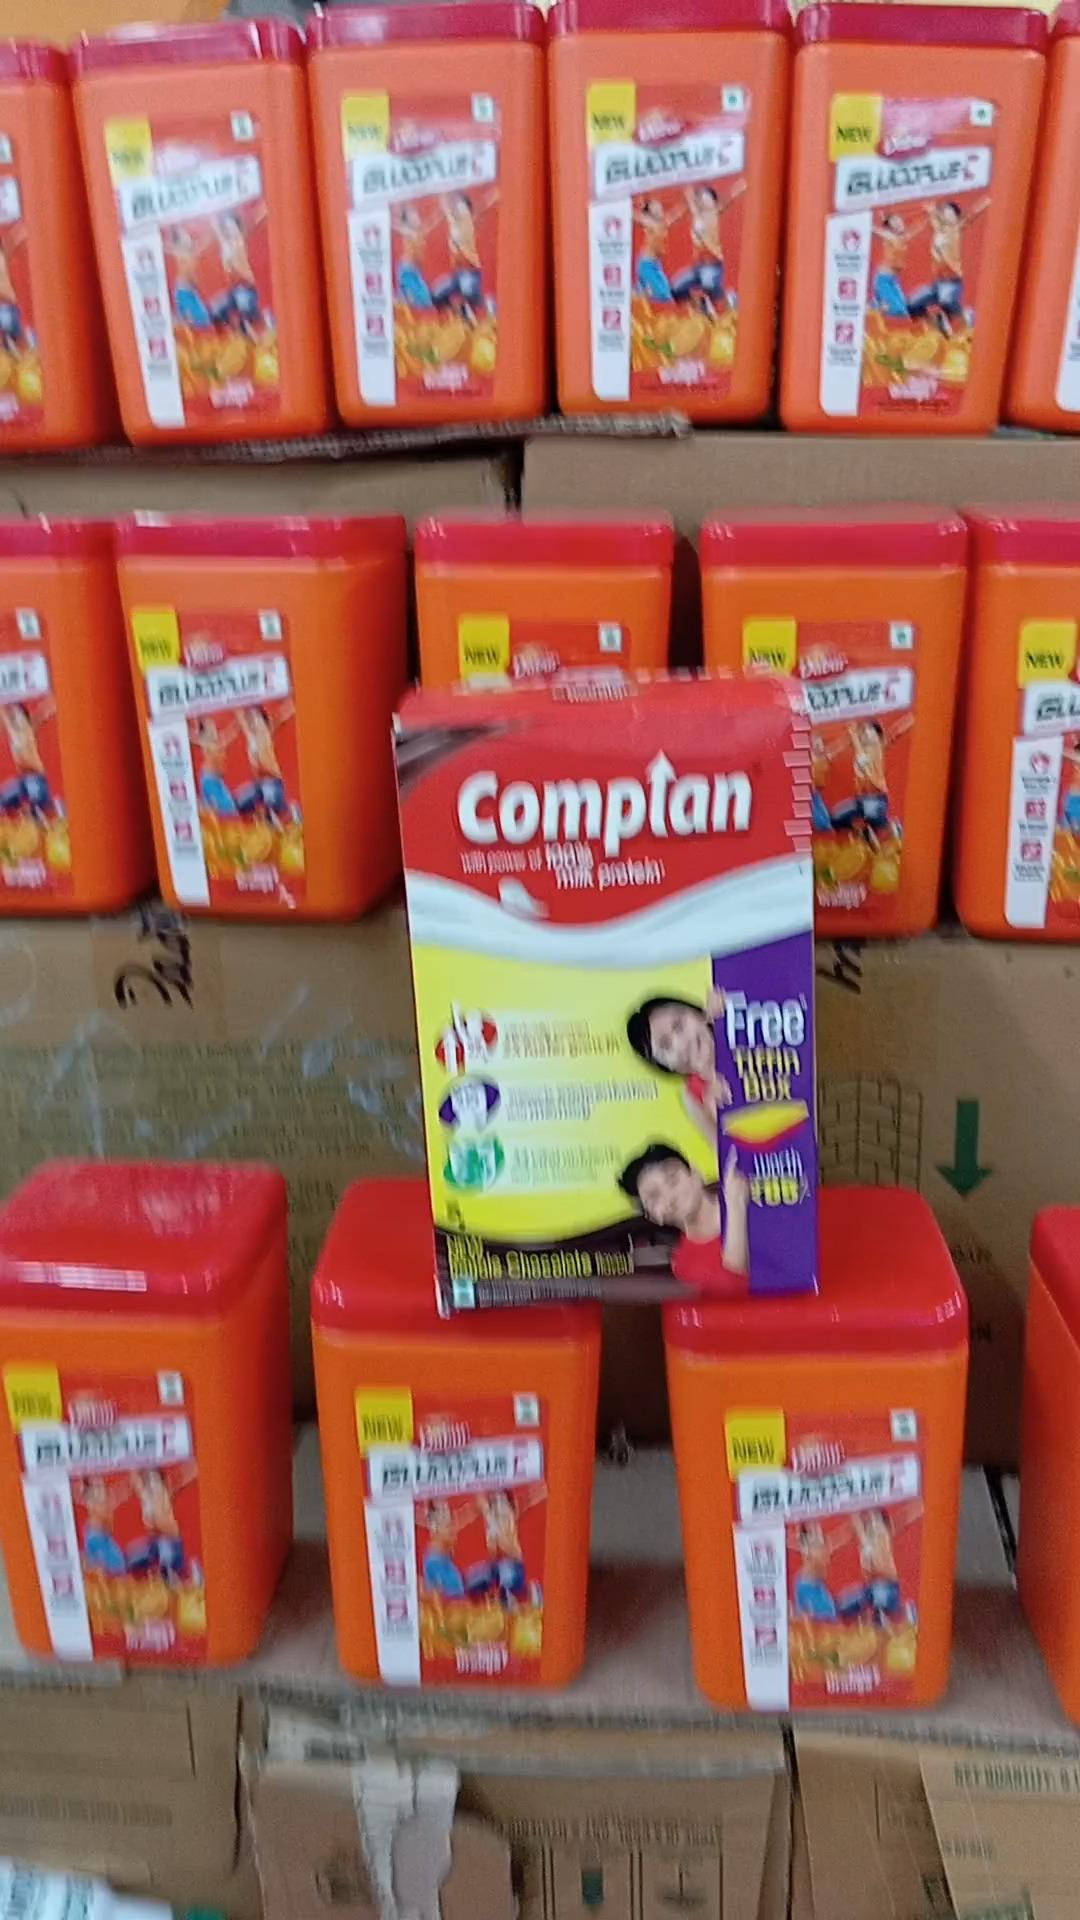COMPLAN_CHOCOLATE_500_GMS_PACK: (407, 711, 818, 1296)
